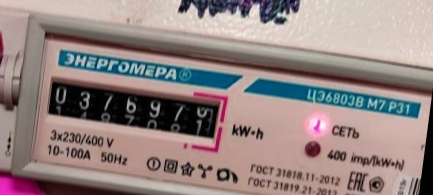0: (53, 83, 68, 105)
1: (192, 117, 205, 136)
3: (76, 88, 92, 110)
6: (123, 91, 139, 114)
7: (99, 89, 115, 112), (170, 100, 185, 123)
9: (147, 97, 161, 119)
screen: (36, 67, 233, 154)
